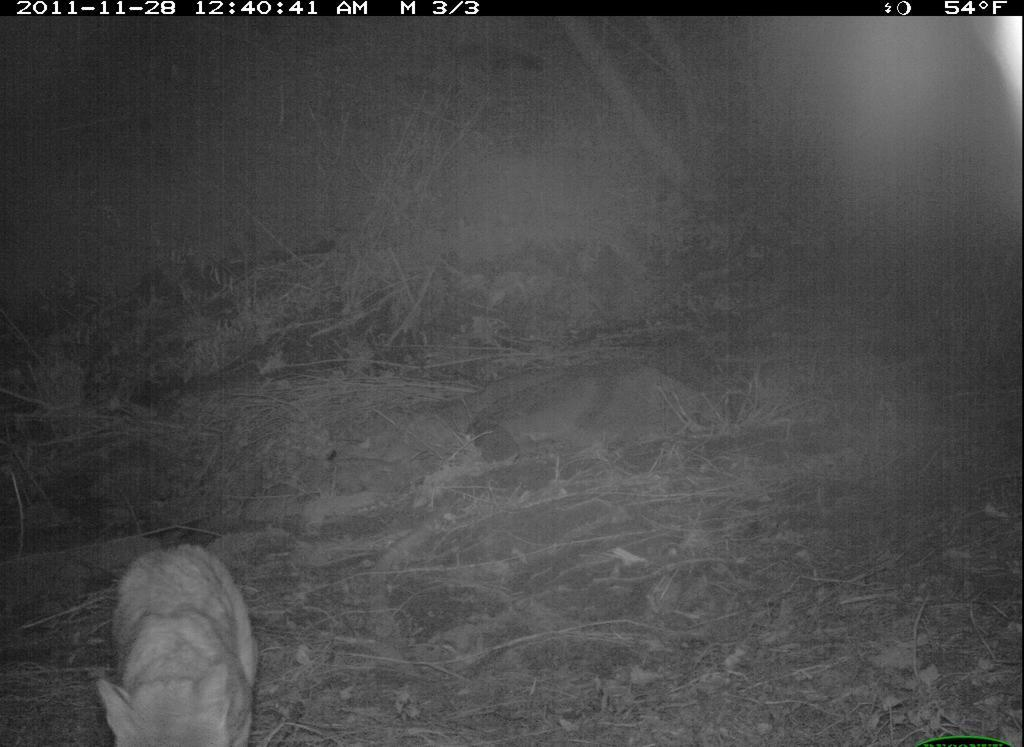bobcat: (85, 539, 268, 747)
